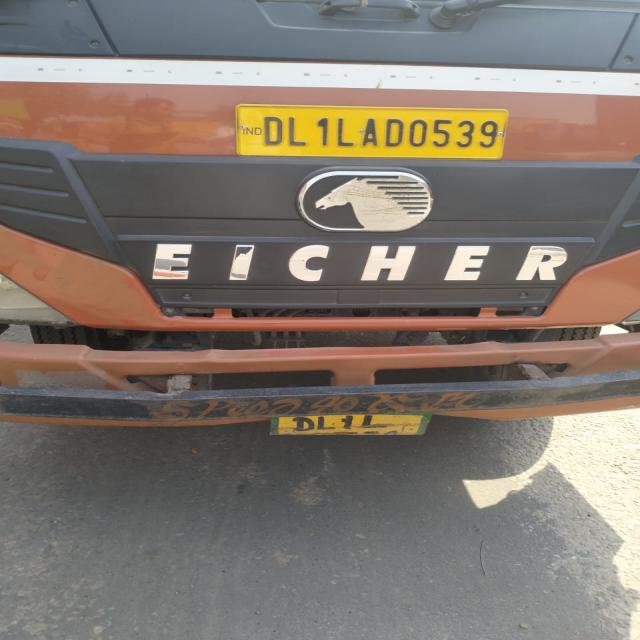License-plate: (241, 100, 515, 157)
